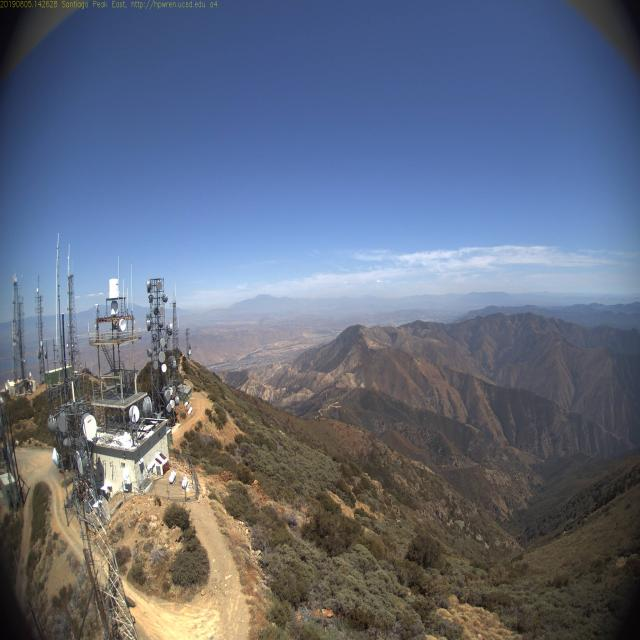smoke: (252, 309, 274, 339), (252, 311, 270, 338)
